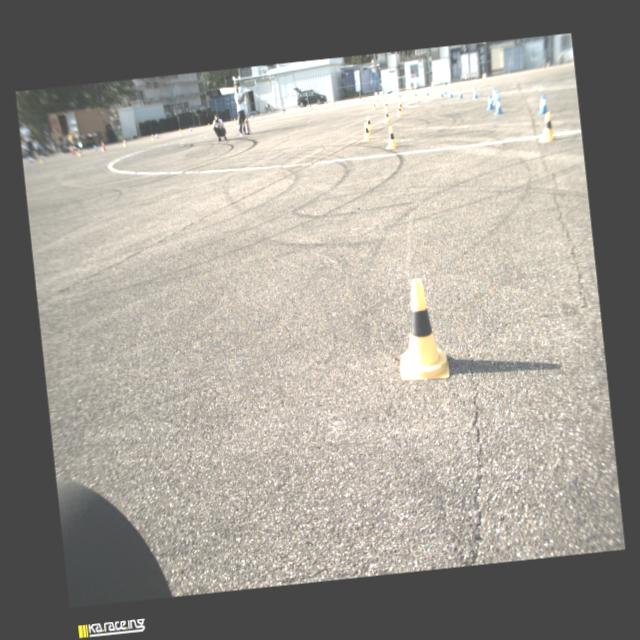blue_cone: (535, 94, 545, 115), (492, 98, 502, 115), (484, 94, 494, 108), (471, 88, 478, 99), (456, 87, 462, 98), (438, 88, 444, 97), (448, 87, 452, 97), (412, 88, 417, 96), (425, 88, 429, 95)
yellow_cone: (391, 276, 450, 382), (534, 111, 554, 142), (383, 125, 398, 148), (360, 122, 371, 140), (382, 108, 390, 122), (366, 115, 372, 130), (396, 104, 402, 115), (383, 102, 388, 110), (398, 100, 402, 110), (372, 102, 376, 110)
